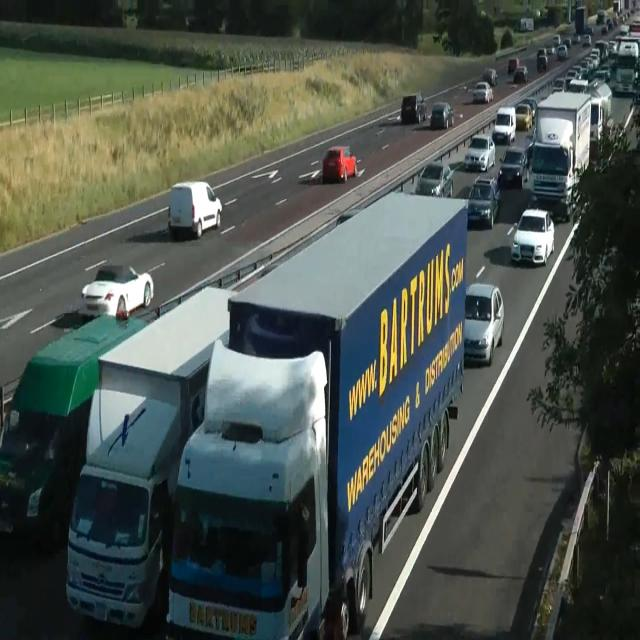bus: (81, 263, 154, 319), (464, 282, 504, 365), (168, 180, 222, 239), (511, 208, 555, 266), (467, 177, 500, 228), (415, 161, 453, 197), (322, 146, 357, 183), (463, 134, 495, 172), (401, 92, 426, 124), (430, 101, 454, 130), (473, 81, 493, 103), (521, 97, 537, 121), (482, 68, 498, 86), (524, 140, 534, 168), (513, 65, 528, 83), (508, 57, 520, 74), (552, 78, 566, 92), (556, 44, 568, 60), (582, 34, 591, 46), (584, 26, 594, 36)
car: (166, 336, 330, 638), (0, 309, 154, 546)
jeep: (65, 387, 181, 629), (498, 146, 528, 188), (492, 106, 516, 145), (514, 102, 532, 131)
minibus: (166, 189, 468, 639), (65, 284, 235, 630), (530, 90, 592, 220), (518, 17, 534, 32)
